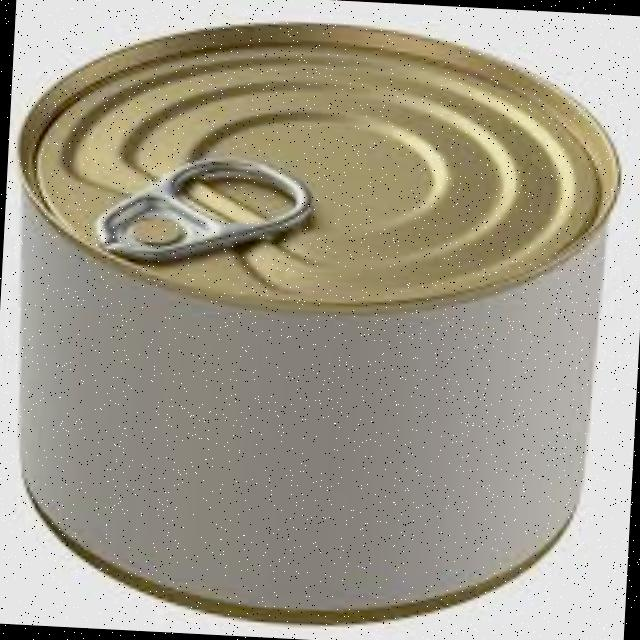Metal: (0, 6, 629, 640)
